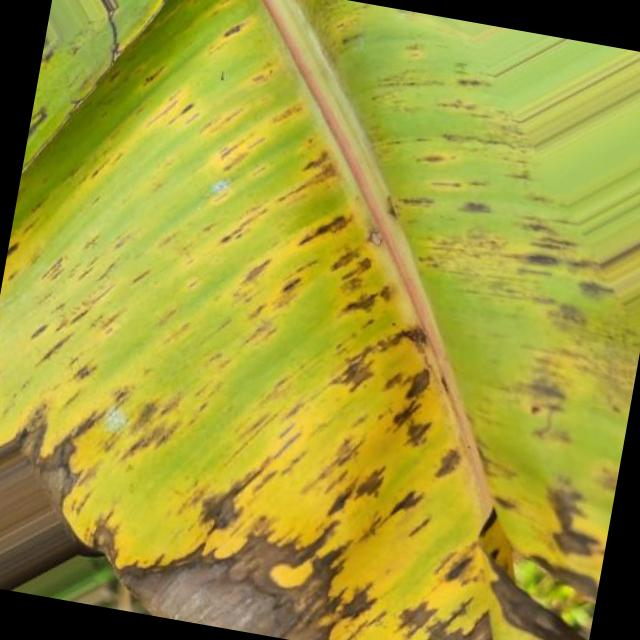Banana_Black_Sigatoka: (197, 98, 640, 475), (82, 432, 609, 640), (0, 173, 193, 530)
